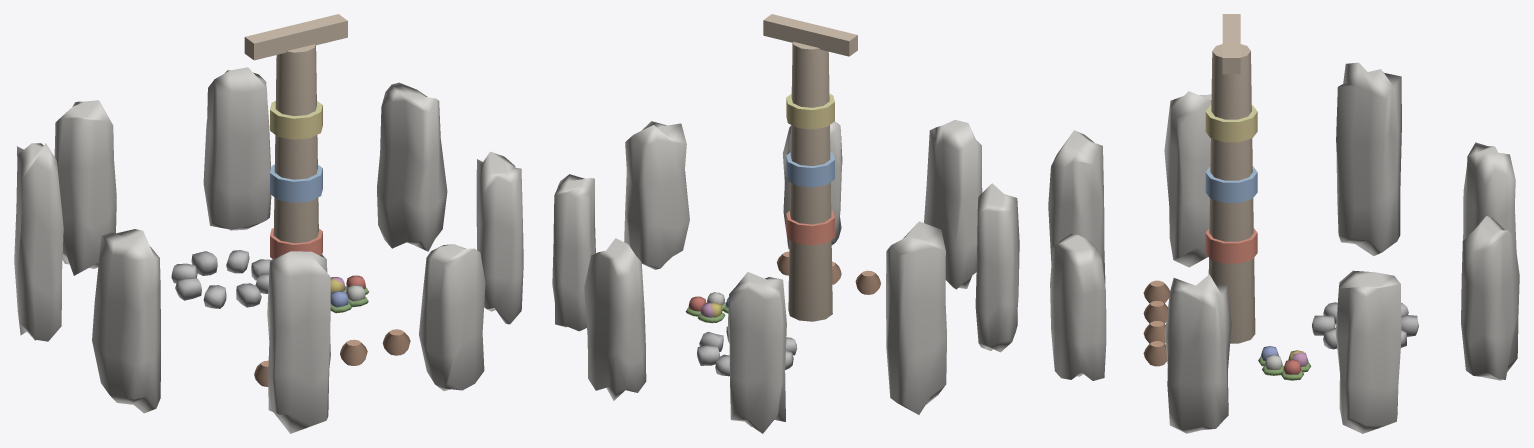
File: hw_ancestor_shrine.glb
The picture shows the model from 3 angles, left to right: view 1: azimuth 30°, elevation 25°; view 2: azimuth 150°, elevation 25°; view 3: azimuth 270°, elevation 25°; orthographic projection. The views are drawn at different scales.
Visible parts, largest first — view 1: Building; view 2: Building; view 3: Building.
Boxes of the visible parts, x1,y1,x2,y2 form: Building: [14, 14, 523, 433]; Building: [552, 14, 1019, 433]; Building: [1048, 14, 1519, 433].
Size of the model in its own units: 3.16 by 2.32 by 3.17.
